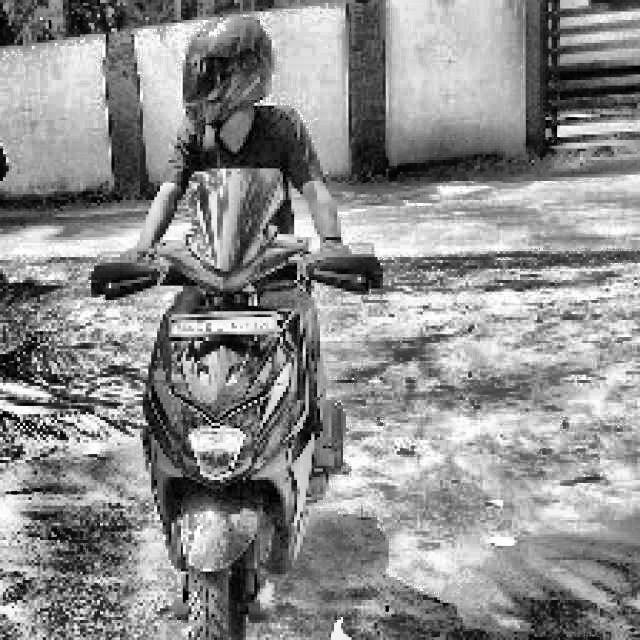motorcycle: (89, 153, 388, 640)
